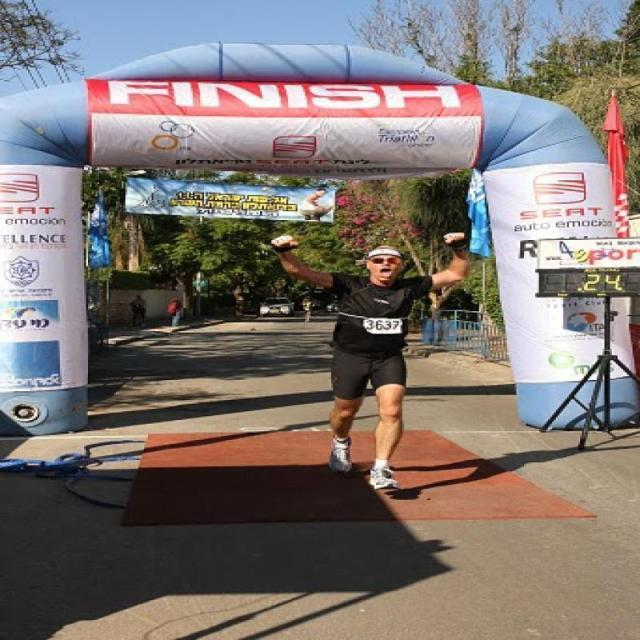dorsal: (364, 316, 402, 334)
